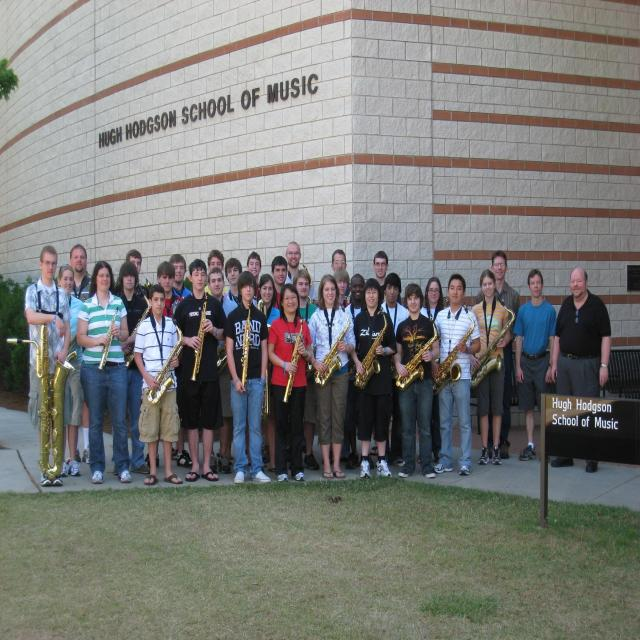saxophone: (467, 304, 519, 383), (143, 317, 185, 409), (393, 313, 440, 391), (351, 310, 392, 389), (314, 308, 354, 388), (438, 310, 478, 382), (123, 292, 154, 368)
